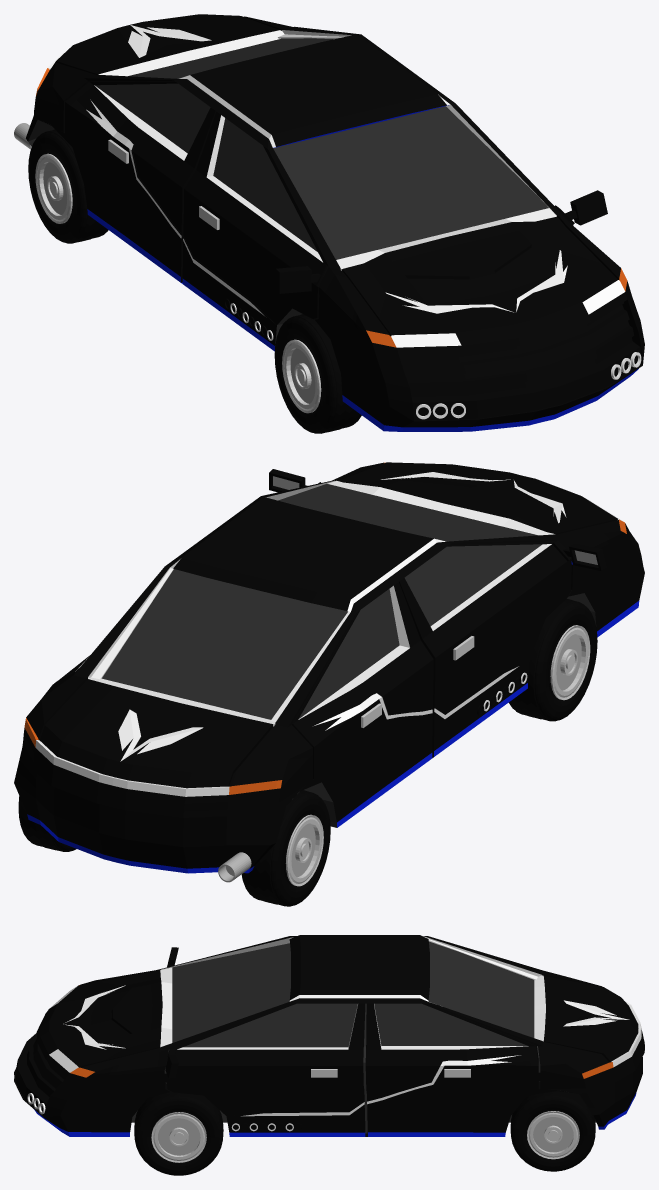
Rendered from CR-CAR-10A.fbx.
3 views of the same model, one above another, from view 1: azimuth 30°, elevation 25°; view 2: azimuth 150°, elevation 25°; view 3: azimuth 270°, elevation 25° (orthographic). The views are drawn at different scales.
Parts seen in each view (by area): view 1: BODY, WHEEL.001, WHEEL.004; view 2: BODY, WHEEL.001, WHEEL.004, WHEEL.002, SHACMAN; view 3: BODY, WHEEL.003, WHEEL.002.
Boxes of the visible parts, x1=… form: BODY: x1=26, y1=14, x2=644, y2=431; WHEEL.001: x1=274, y1=314, x2=361, y2=433; WHEEL.004: x1=28, y1=129, x2=108, y2=243; BODY: x1=14, y1=462, x2=644, y2=873; WHEEL.001: x1=508, y1=598, x2=597, y2=721; WHEEL.004: x1=241, y1=790, x2=330, y2=906; WHEEL.002: x1=18, y1=796, x2=76, y2=851; SHACMAN: x1=218, y1=852, x2=251, y2=882; BODY: x1=14, y1=935, x2=644, y2=1136; WHEEL.003: x1=134, y1=1092, x2=223, y2=1175; WHEEL.002: x1=510, y1=1091, x2=595, y2=1171.
Bounding box in the file's own units: 126 × 82.22 × 285.
